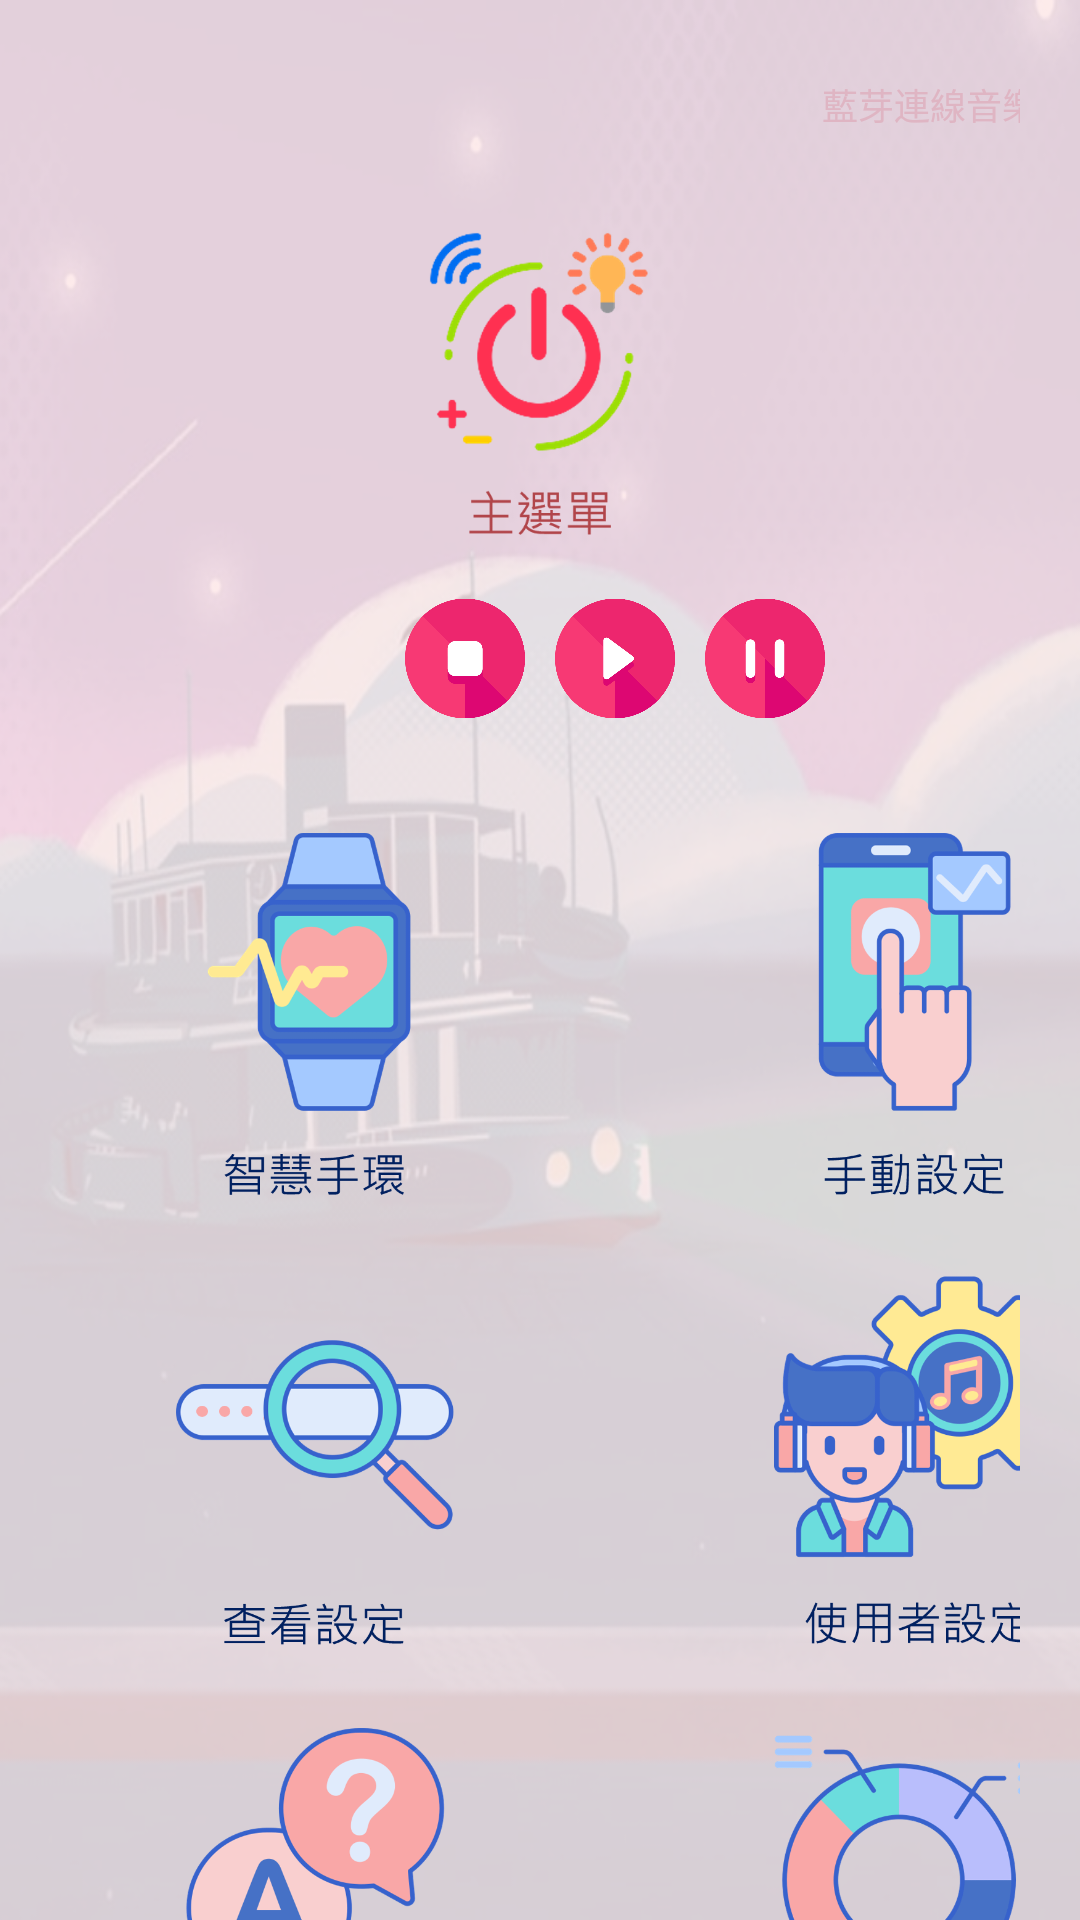

Icons on this 1080 × 1920 Android screen, each with the point to tap as (x=x, y=y):
play: (x=615, y=658)
